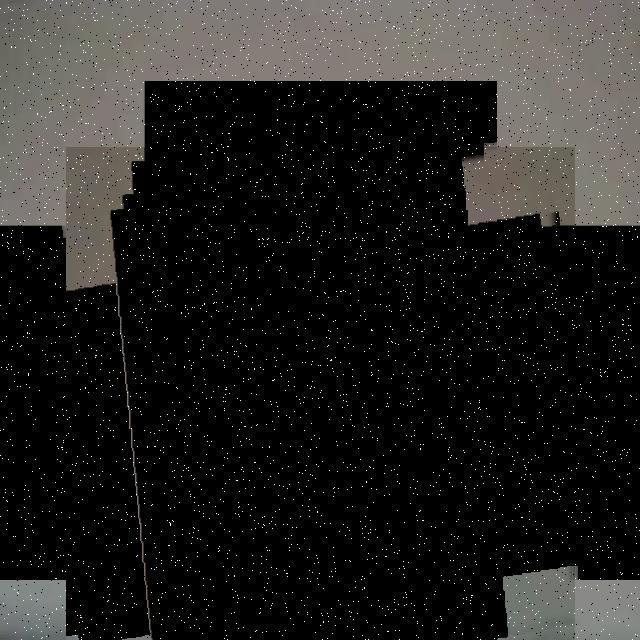dua puluh ribu rupiah: (66, 147, 575, 640)
